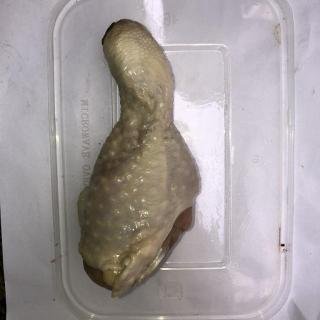Ayam: (77, 18, 201, 300)
